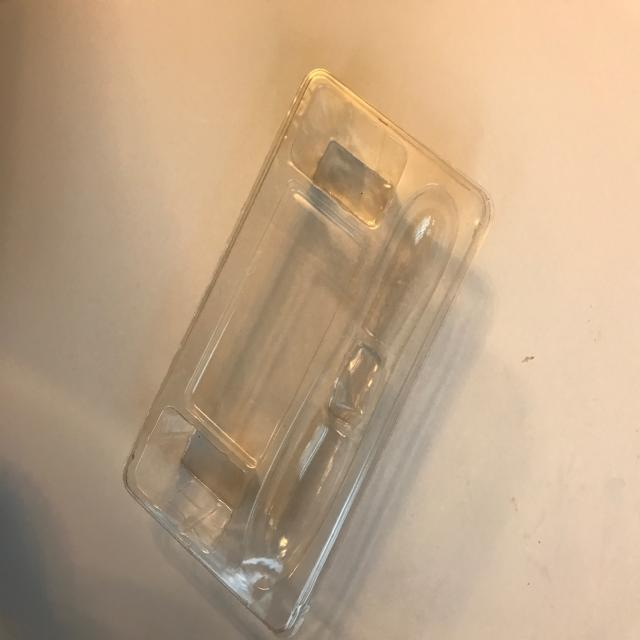plastic: (119, 63, 497, 640)
